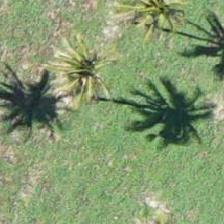coconut_tree: (36, 25, 126, 115), (108, 0, 198, 58)
